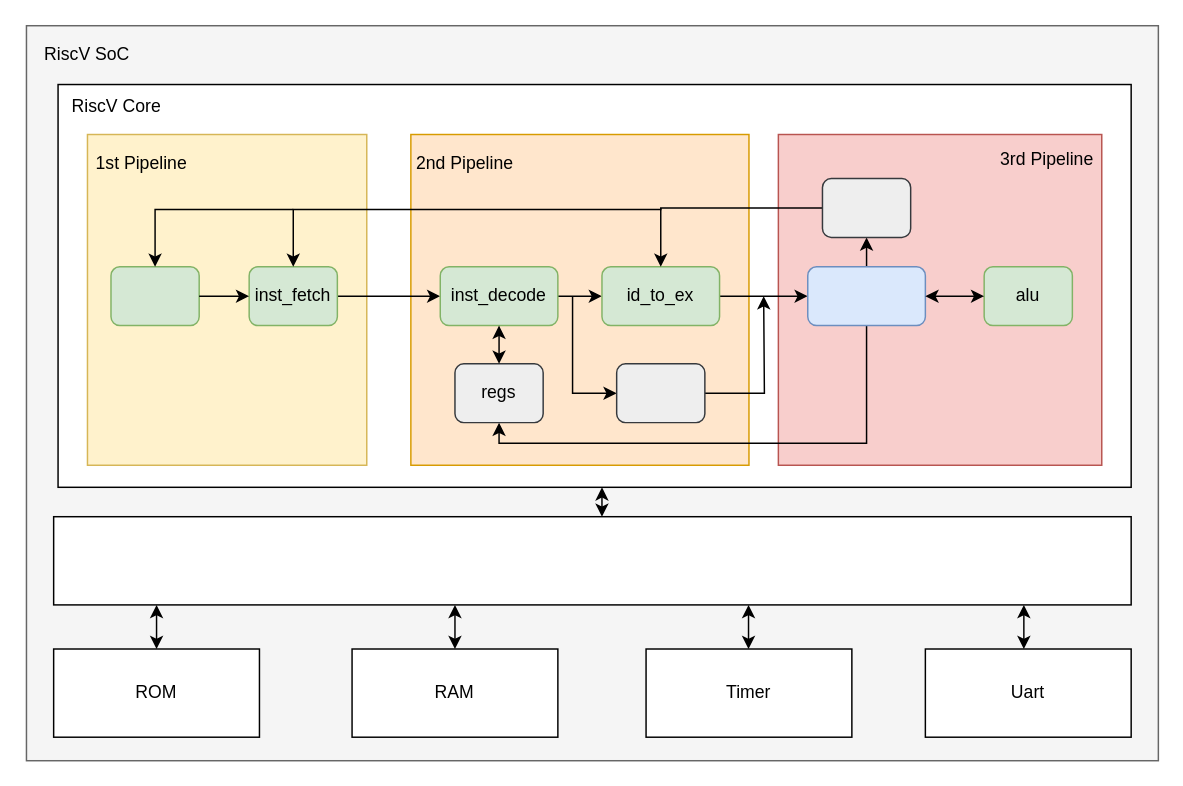
Some shapes in this 1183 by 786 pixel diagram are drawn without their labels. Each missing label, with the centre of its shape:
clint: [660,392]
ctrl: [866,207]
inst_execute: [865,295]
pc_reg: [154,295]
RiscV Internal Bus: [591,560]
